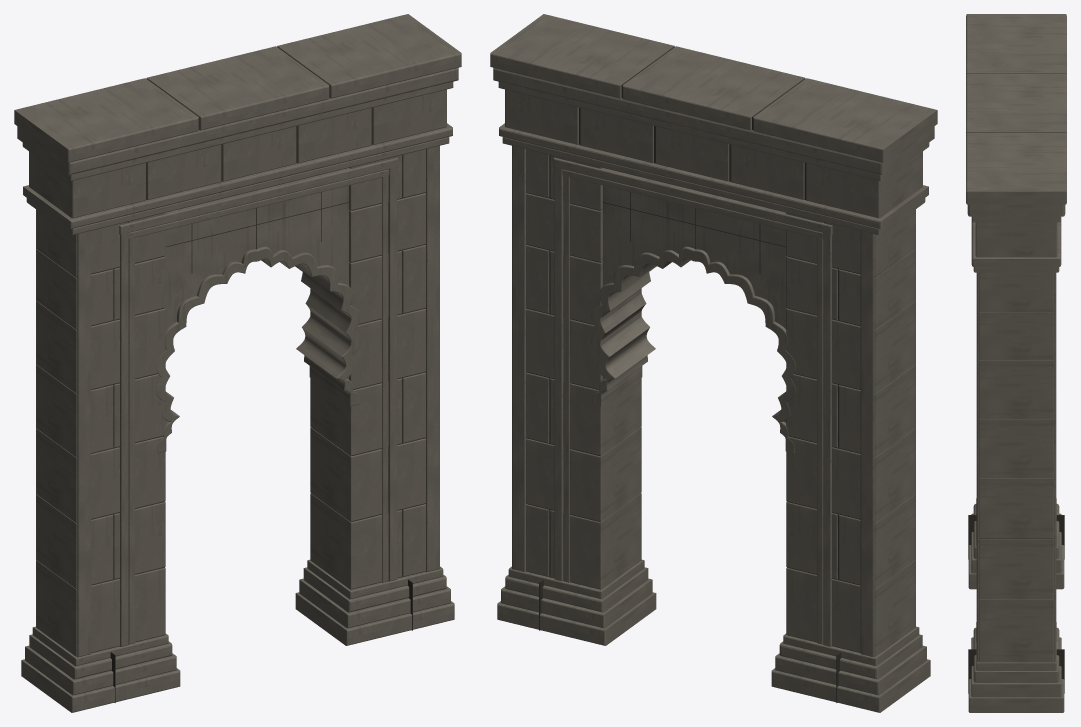
File: mughal_multifoil_archway.glb
3 views of the same model, side by side, from view 1: azimuth 30°, elevation 25°; view 2: azimuth 150°, elevation 25°; view 3: azimuth 270°, elevation 25° (orthographic). The views are drawn at different scales.
Visible parts, largest first — view 1: Top_Entablature_Cornice, Left_Pier_Shaft, Right_Pier_Shaft, Architrave_Framing, Spandrel_Multifoil_Wall, Left_Plinth_Base, Right_Plinth_Base, Scalloped_Arch_Molding; view 2: Top_Entablature_Cornice, Left_Pier_Shaft, Right_Pier_Shaft, Architrave_Framing, Spandrel_Multifoil_Wall, Left_Plinth_Base, Right_Plinth_Base, Scalloped_Arch_Molding; view 3: Right_Pier_Shaft, Top_Entablature_Cornice, Right_Plinth_Base, Left_Plinth_Base, Architrave_Framing.
Part boxes in pixels (x1,y1,x2,y2): Top_Entablature_Cornice: (14,14,461,235); Left_Pier_Shaft: (36,209,165,657); Right_Pier_Shaft: (310,145,439,589); Architrave_Framing: (119,157,398,646); Spandrel_Multifoil_Wall: (165,185,349,422); Left_Plinth_Base: (21,626,180,712); Right_Plinth_Base: (295,559,454,645); Scalloped_Arch_Molding: (155,246,360,453); Top_Entablature_Cornice: (490,14,937,235); Left_Pier_Shaft: (786,209,915,657); Right_Pier_Shaft: (512,145,641,589); Architrave_Framing: (553,157,832,646); Spandrel_Multifoil_Wall: (602,185,786,422); Left_Plinth_Base: (771,626,930,712); Right_Plinth_Base: (497,559,656,645); Scalloped_Arch_Molding: (591,246,796,453); Right_Pier_Shaft: (977,272,1055,662); Top_Entablature_Cornice: (966,14,1066,272); Right_Plinth_Base: (968,622,1064,712); Left_Plinth_Base: (968,498,1064,589); Architrave_Framing: (976,273,1056,641).
Bounding box in the file's own units: 4.13 × 5.68 × 0.99.
2 materials, 1 textured.
